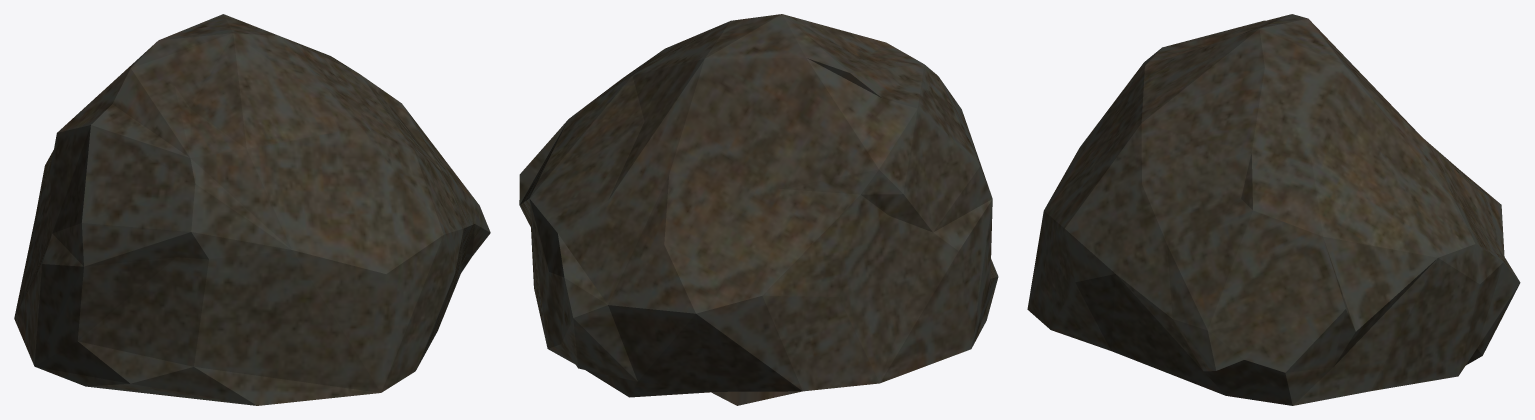
File: piedra_stone_03.glb
3 views of the same model, side by side, from view 1: azimuth 30°, elevation 25°; view 2: azimuth 150°, elevation 25°; view 3: azimuth 270°, elevation 25° (orthographic). The views are drawn at different scales.
Parts seen in each view (by area): view 1: Stone_03; view 2: Stone_03; view 3: Stone_03.
Boxes of the visible parts, x1,y1,x2,y2 form: Stone_03: (14, 14, 490, 405); Stone_03: (519, 14, 998, 405); Stone_03: (1027, 14, 1520, 405).
Size of the model in its own units: 0.9855 by 0.6747 by 1.
Materials: 1 (1 with a texture image).
